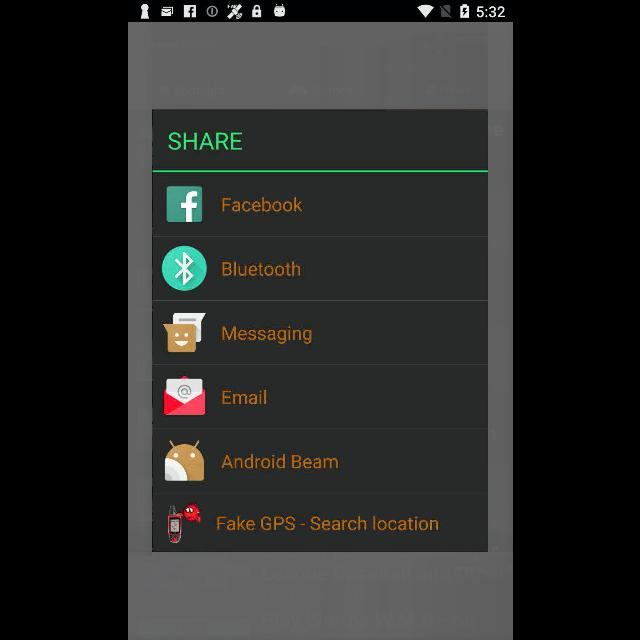icon: (162, 245, 206, 291), (166, 186, 202, 222)
image: (162, 313, 205, 353), (163, 376, 205, 416), (164, 441, 204, 482), (167, 502, 201, 544)
panel: (152, 111, 488, 551)
text: (217, 516, 438, 530), (220, 454, 338, 468), (221, 327, 311, 345), (168, 132, 240, 150), (220, 262, 300, 276), (222, 198, 302, 212), (221, 390, 265, 404)
uppertaskbar: (128, 1, 512, 23)
